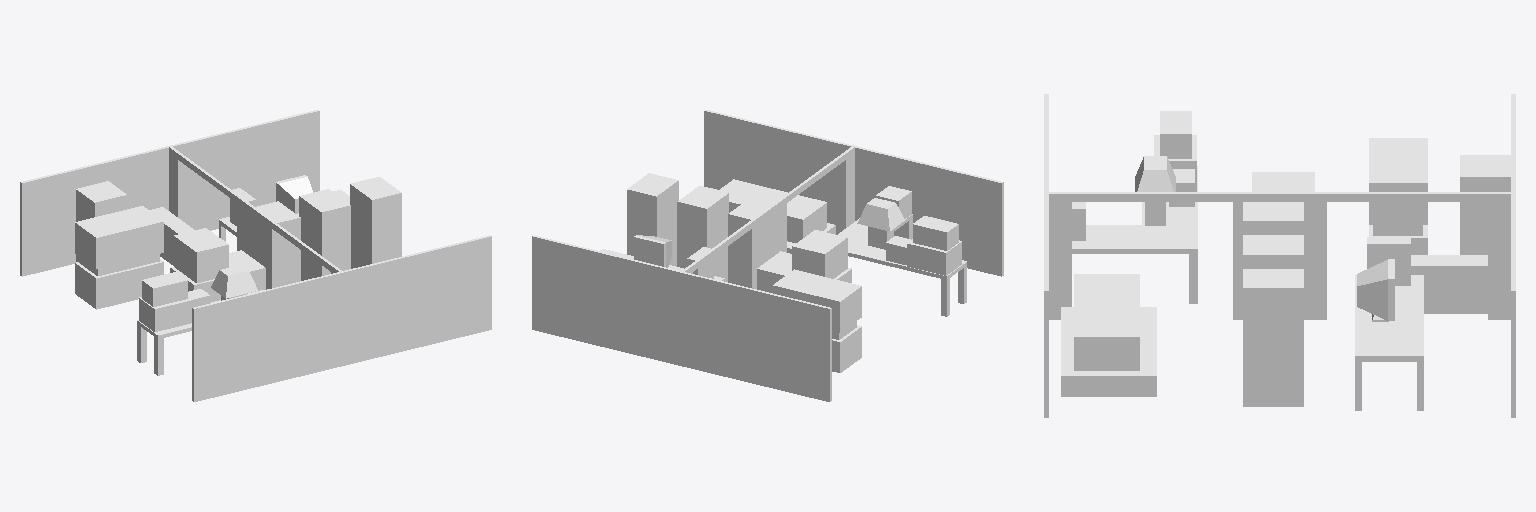
robot.urdf — track4.urdf:
<?xml version="1.0" ?>
<robot name="track4.urdf">
  <link concave="yes" name="baseLink">
    <inertial>
      <origin rpy="0 0 0" xyz="0 0 0"/>
       <mass value=".0"/>
       <inertia ixx="0" ixy="0" ixz="0" iyy="0" iyz="0" izz="0"/>
    </inertial>
    <visual>
      <origin rpy="0 0 0" xyz="0 0 0"/>
      <geometry>
				<mesh filename="track4.obj" scale="1 1 1"/>
      </geometry>
       <material name="white">
        <color rgba="1 1 1 1"/>
      </material>
    </visual>
    <collision concave="yes">
      <origin rpy="0 0 0" xyz="0 0 0"/>
     <geometry>
				<mesh filename="track4.obj" scale="1 1 1"/>
      </geometry>
    </collision>
  </link>
</robot>

--- Render facts (derived) ---
3 views of the same robot in one strip: view 1: azimuth 30°, elevation 25°; view 2: azimuth 150°, elevation 25°; view 3: azimuth 270°, elevation 25° (orthographic).
Model track4.urdf with 1 links and 0 joints (none), rooted at baseLink, posed all joints at 0.
Visible links, largest first — view 1: baseLink; view 2: baseLink; view 3: baseLink.
Link boxes in pixels (x1=…): baseLink: x1=20, y1=110, x2=491, y2=401; baseLink: x1=532, y1=110, x2=1003, y2=401; baseLink: x1=1044, y1=94, x2=1515, y2=417.
Size in the robot's own frame: 5 by 5.05 by 1.5 metres.
1 mesh visuals loaded from 1 distinct referenced files (1 OBJ).